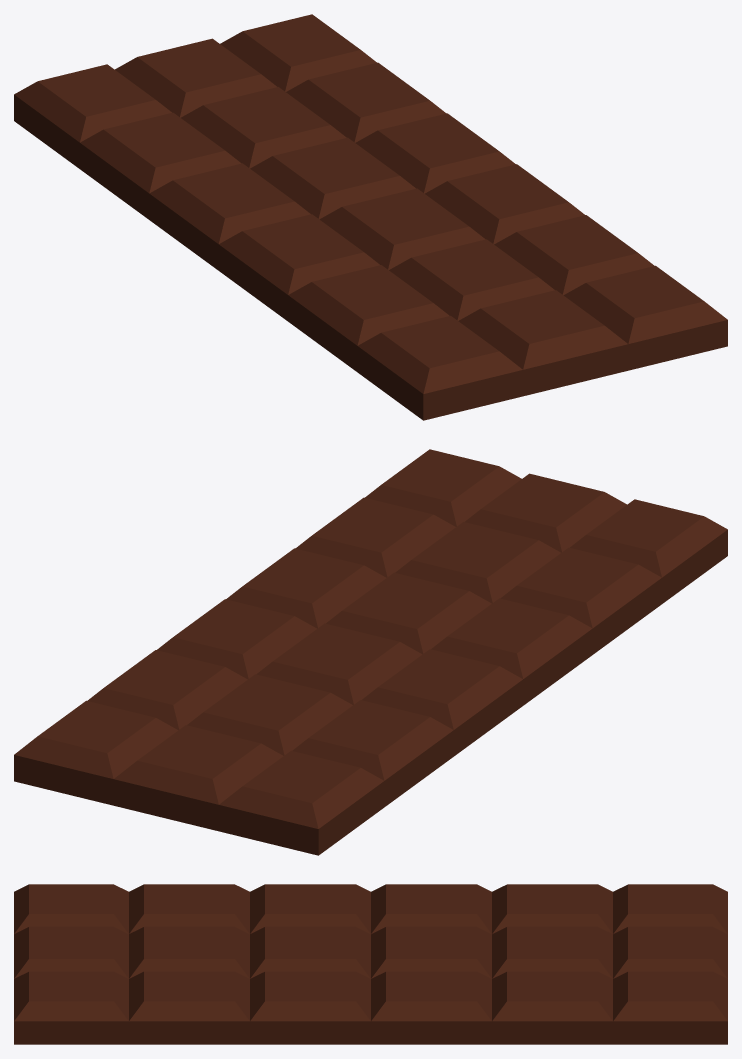
File: coco bar.FBX
3 renders of one model, top to bottom at view 1: azimuth 30°, elevation 25°; view 2: azimuth 150°, elevation 25°; view 3: azimuth 270°, elevation 25°, orthographic. The views are drawn at different scales.
Visible parts, largest first — view 1: Box001; view 2: Box001; view 3: Box001.
Boxes of the visible parts, x1=… form: Box001: x1=14, y1=14, x2=727, y2=420; Box001: x1=14, y1=449, x2=727, y2=855; Box001: x1=14, y1=884, x2=727, y2=1044.
Bounding box in the file's own units: 61.03 × 8.12 × 142.
